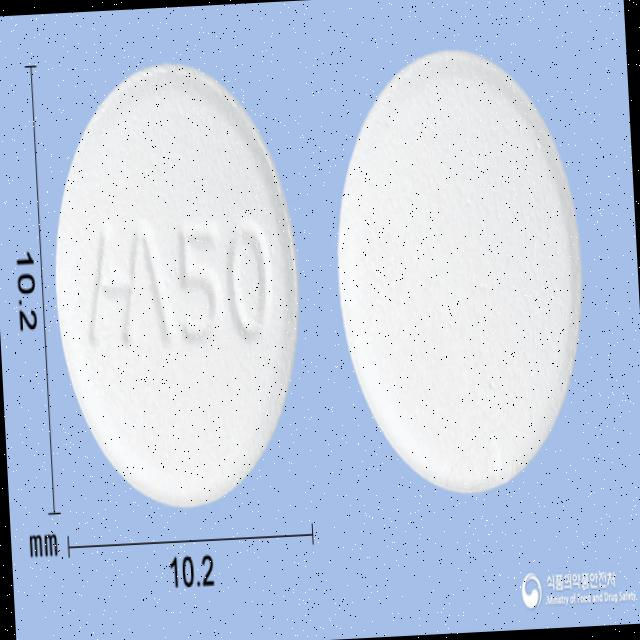Herfam: (326, 41, 596, 503), (45, 52, 312, 516)
